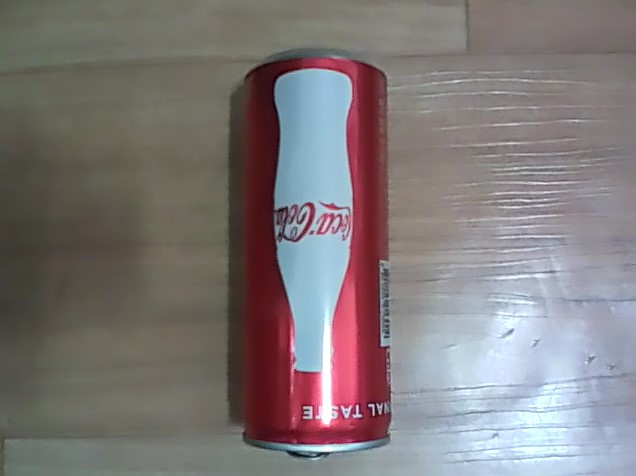Can: (221, 40, 397, 464)
